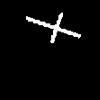single_crochet: (26, 13, 80, 42)
